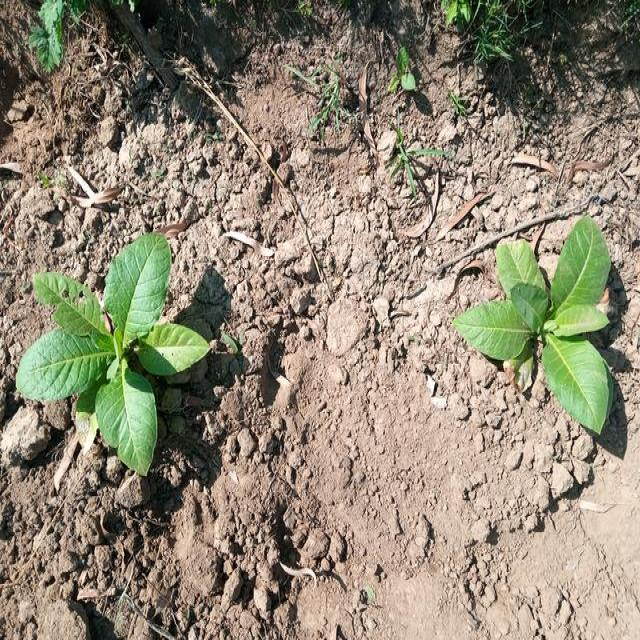crop: (22, 227, 205, 458), (461, 220, 640, 432)
